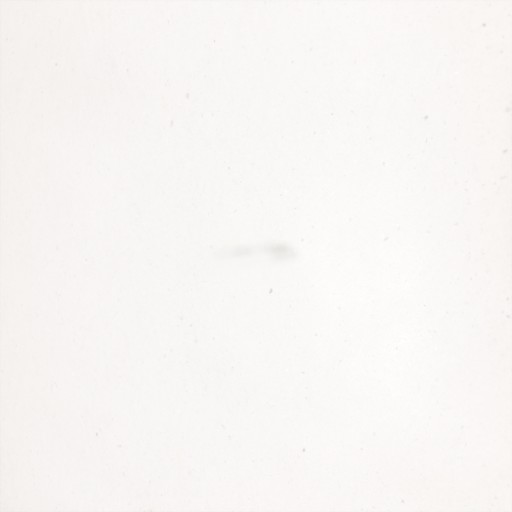lego: (210, 243, 299, 271)
